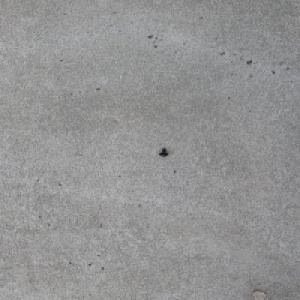BoltWasher: (158, 148, 168, 157)
